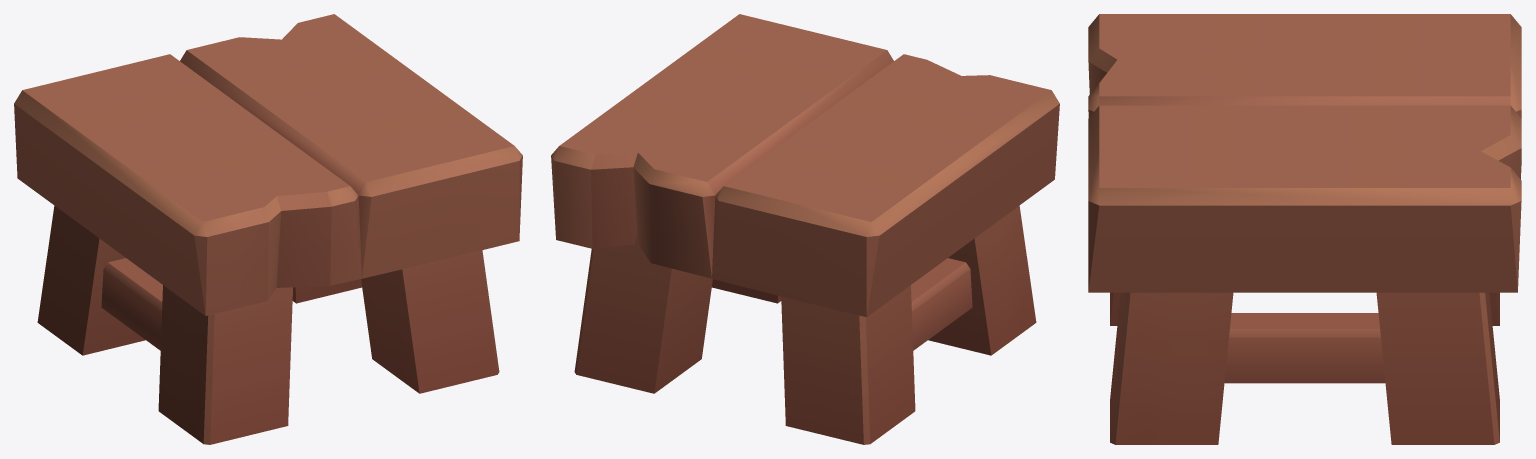
The model's file is d_kaykit_tabouret.glb.
3 views of the same model, side by side, from view 1: azimuth 30°, elevation 25°; view 2: azimuth 150°, elevation 25°; view 3: azimuth 270°, elevation 25° (orthographic). The views are drawn at different scales.
Parts seen in each view (by area): view 1: d_kaykit_tabouret; view 2: d_kaykit_tabouret; view 3: d_kaykit_tabouret.
Boxes of the visible parts, bbox=[...] form: d_kaykit_tabouret: bbox=[14, 14, 522, 444]; d_kaykit_tabouret: bbox=[551, 14, 1059, 444]; d_kaykit_tabouret: bbox=[1088, 14, 1521, 444].
Bounding box in the file's own units: 0.75 × 0.5 × 0.75.
1 material, 1 textured.
